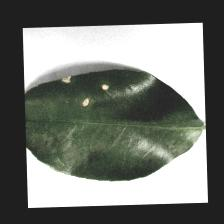canker: (43, 68, 118, 115)
